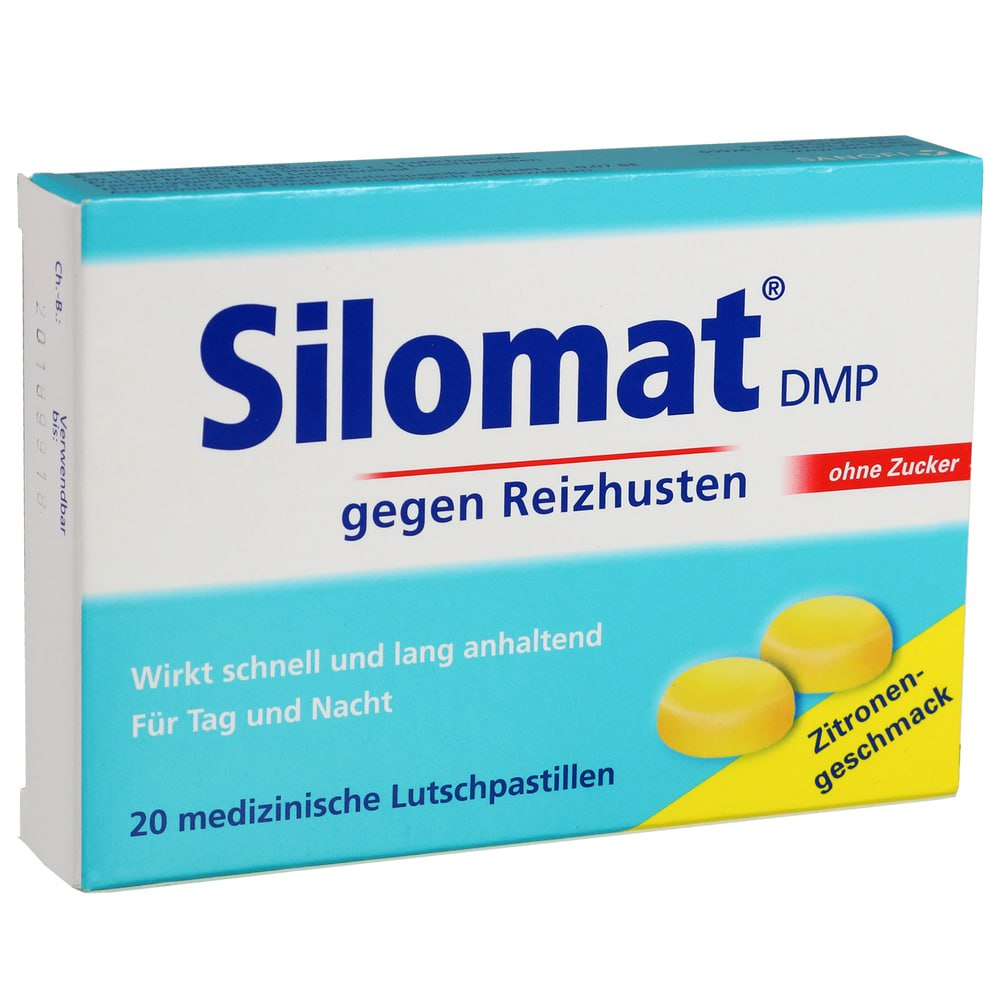Medicine: (13, 128, 998, 900)
